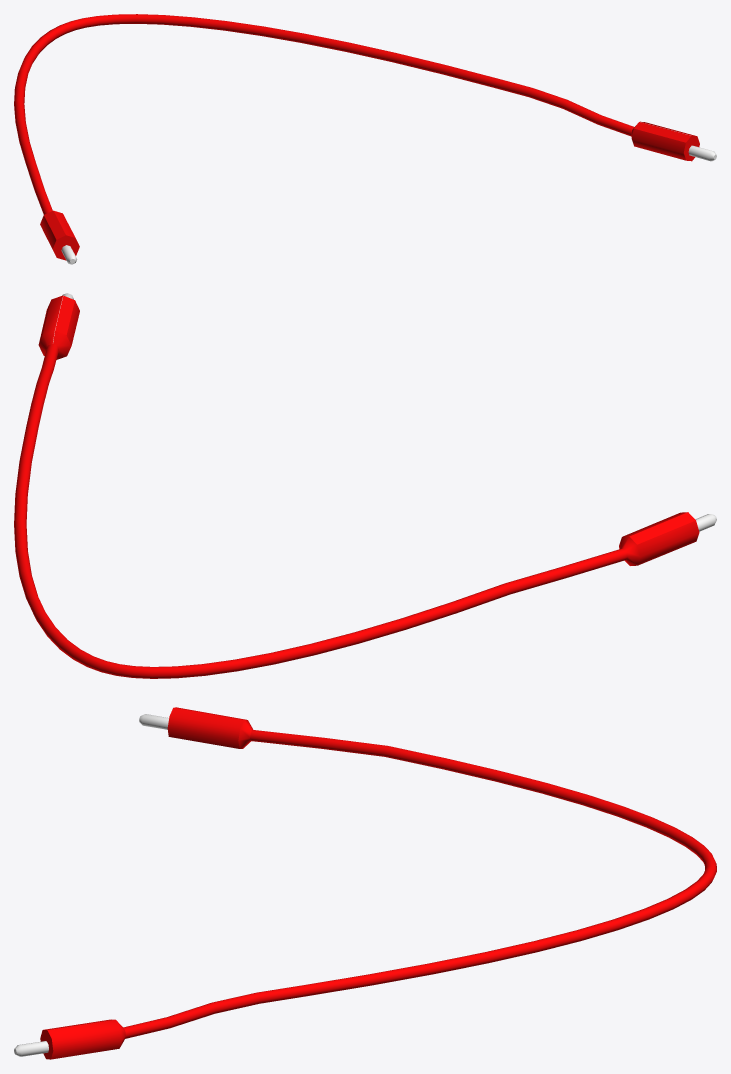
File: ElectroWires04_1.FBX
3 views of the same model, one above another, from view 1: azimuth 30°, elevation 25°; view 2: azimuth 150°, elevation 25°; view 3: azimuth 270°, elevation 25° (orthographic). The views are drawn at different scales.
Visible parts, largest first — view 1: Wire04; view 2: Wire04; view 3: Wire04.
Boxes of the visible parts, x1,y1,x2,y2 form: Wire04: (14,14,716,264); Wire04: (14,293,716,678); Wire04: (14,707,716,1059).
Size of the model in its own units: 68.55 by 2.97 by 60.57.
